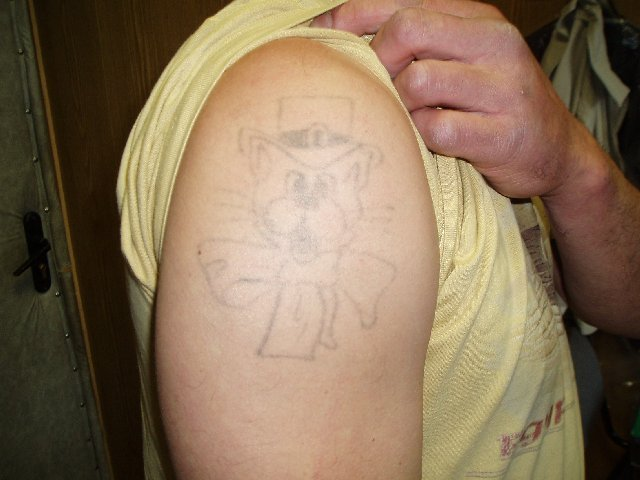tatu8_kot: (227, 93, 401, 364)
